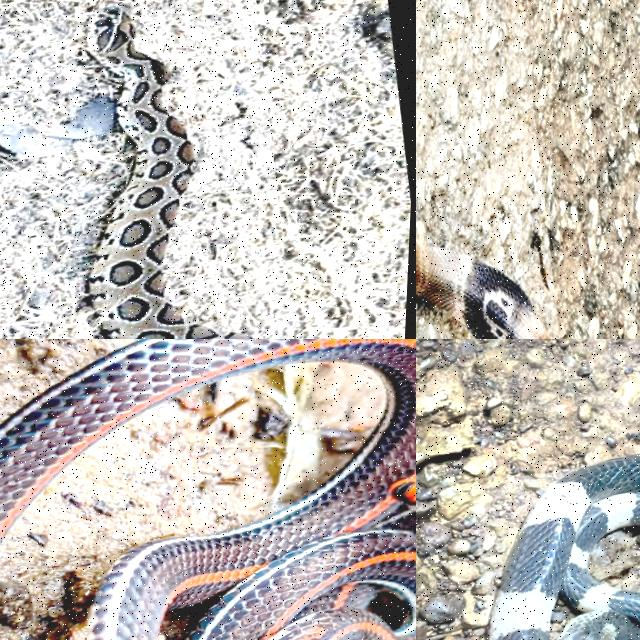Bungarus candidus: (487, 455, 639, 639)
Calliophis intestinalis: (0, 339, 415, 639)
Daboia siamensis: (84, 8, 246, 338)
Naja siamensis: (416, 241, 548, 338)
